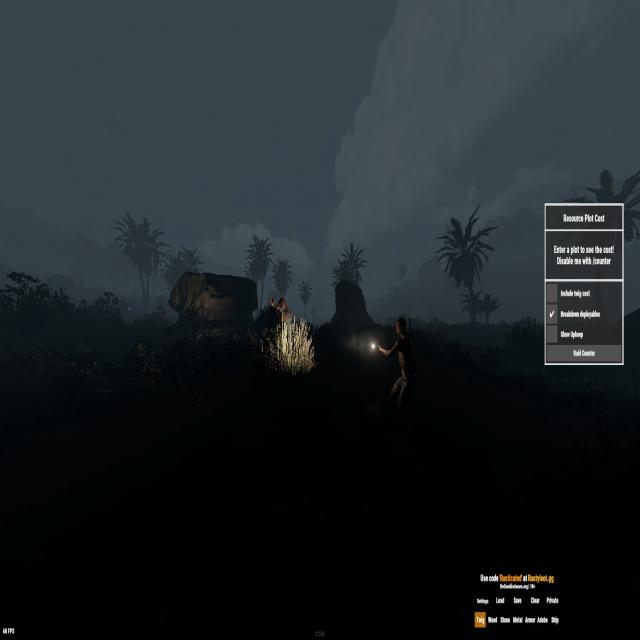Player: (388, 312, 416, 417), (270, 290, 295, 366)
